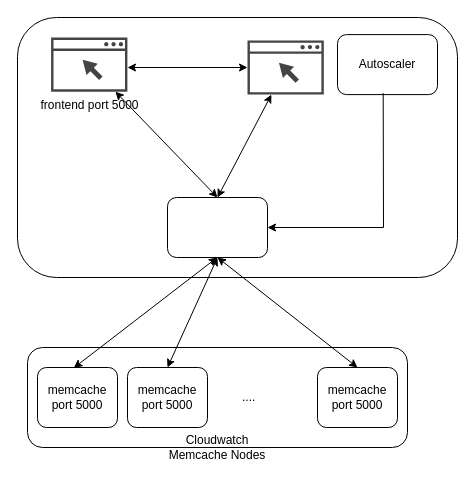
The diagram is 475 pixels wide and 480 high, and some of its shapes have lost their labels. Each missing label, with the centre of its shape:
backend port 5002: (217,227)
managerapp port 5001: (285,67)
